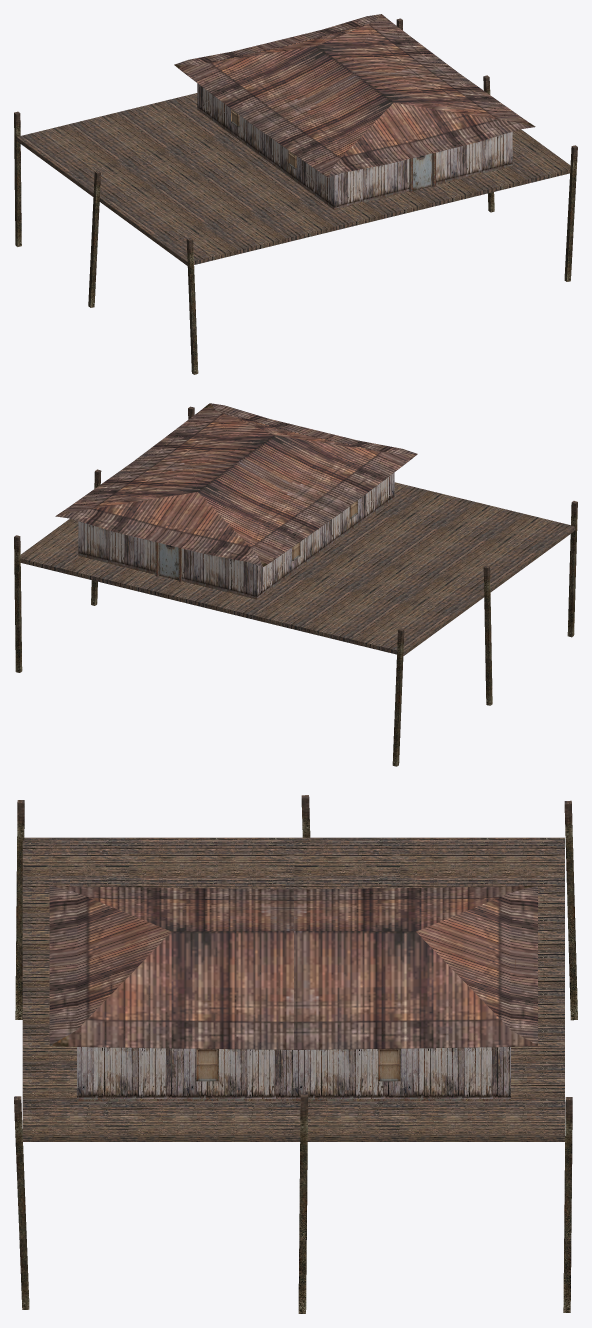
Rendered from PBld01.glb.
3 views of the same model, one above another, from view 1: azimuth 30°, elevation 25°; view 2: azimuth 150°, elevation 25°; view 3: azimuth 270°, elevation 25° (orthographic). The views are drawn at different scales.
Parts seen in each view (by area): view 1: _PBld01; view 2: _PBld01; view 3: _PBld01.
Boxes of the visible parts, <box> form: _PBld01: <box>14,14,577,374</box>; _PBld01: <box>14,403,577,766</box>; _PBld01: <box>14,795,577,1313</box>.
Size of the model in its own units: 27.02 by 11.37 by 20.79.
Materials: 5 (5 with a texture image).
